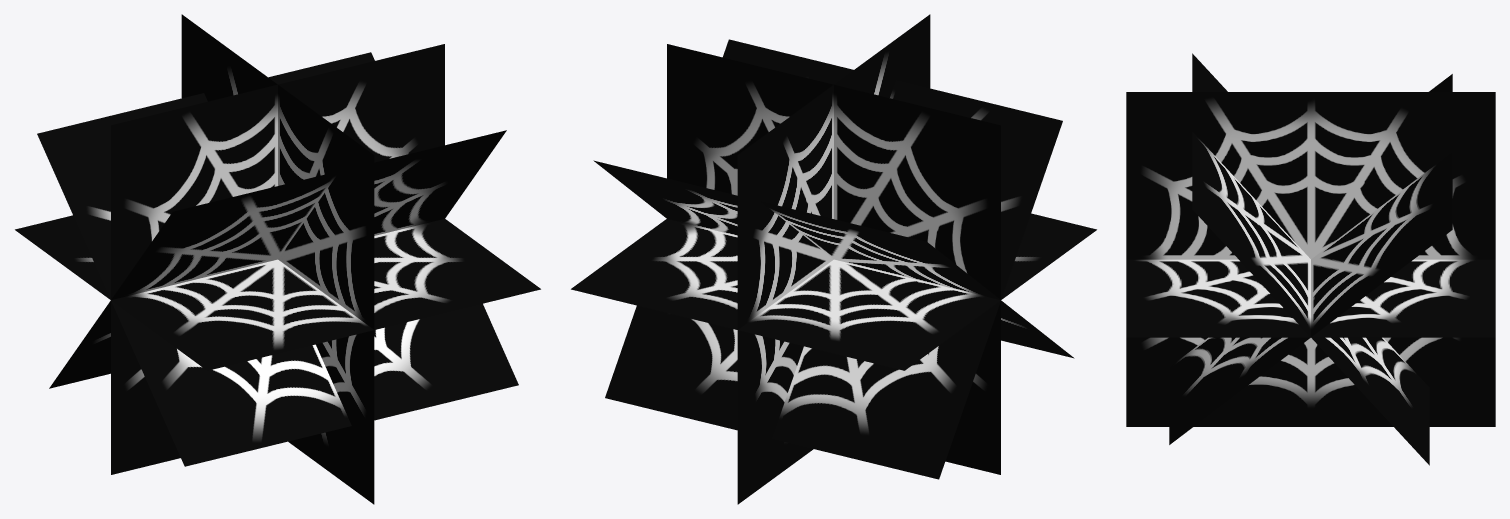
Rendered from SpiderWeb.fbx.
The picture shows the model from 3 angles, left to right: view 1: azimuth 30°, elevation 25°; view 2: azimuth 150°, elevation 25°; view 3: azimuth 270°, elevation 25°; orthographic projection. The views are drawn at different scales.
Visible parts, largest first — view 1: SpiderWeb; view 2: SpiderWeb; view 3: SpiderWeb.
Boxes of the visible parts, x1=… form: SpiderWeb: x1=15, y1=14, x2=540, y2=504; SpiderWeb: x1=571, y1=14, x2=1096, y2=504; SpiderWeb: x1=1126, y1=53, x2=1495, y2=465.
Size of the model in its own units: 4.76 by 4.76 by 4.76.
Materials: 1 (1 with a texture image).
